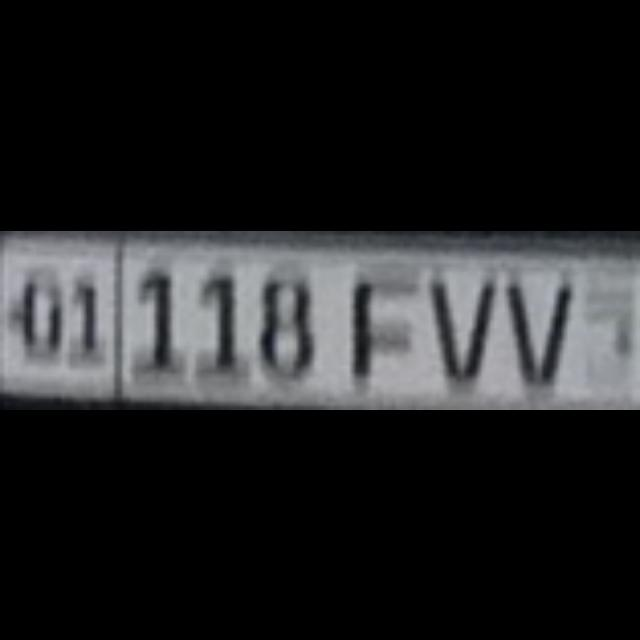0: (20, 271, 58, 353)
1: (126, 267, 180, 369), (192, 271, 244, 373), (66, 275, 106, 361)
8: (252, 271, 310, 373)
F: (346, 271, 412, 377)
V: (424, 275, 494, 377), (502, 275, 566, 377)
